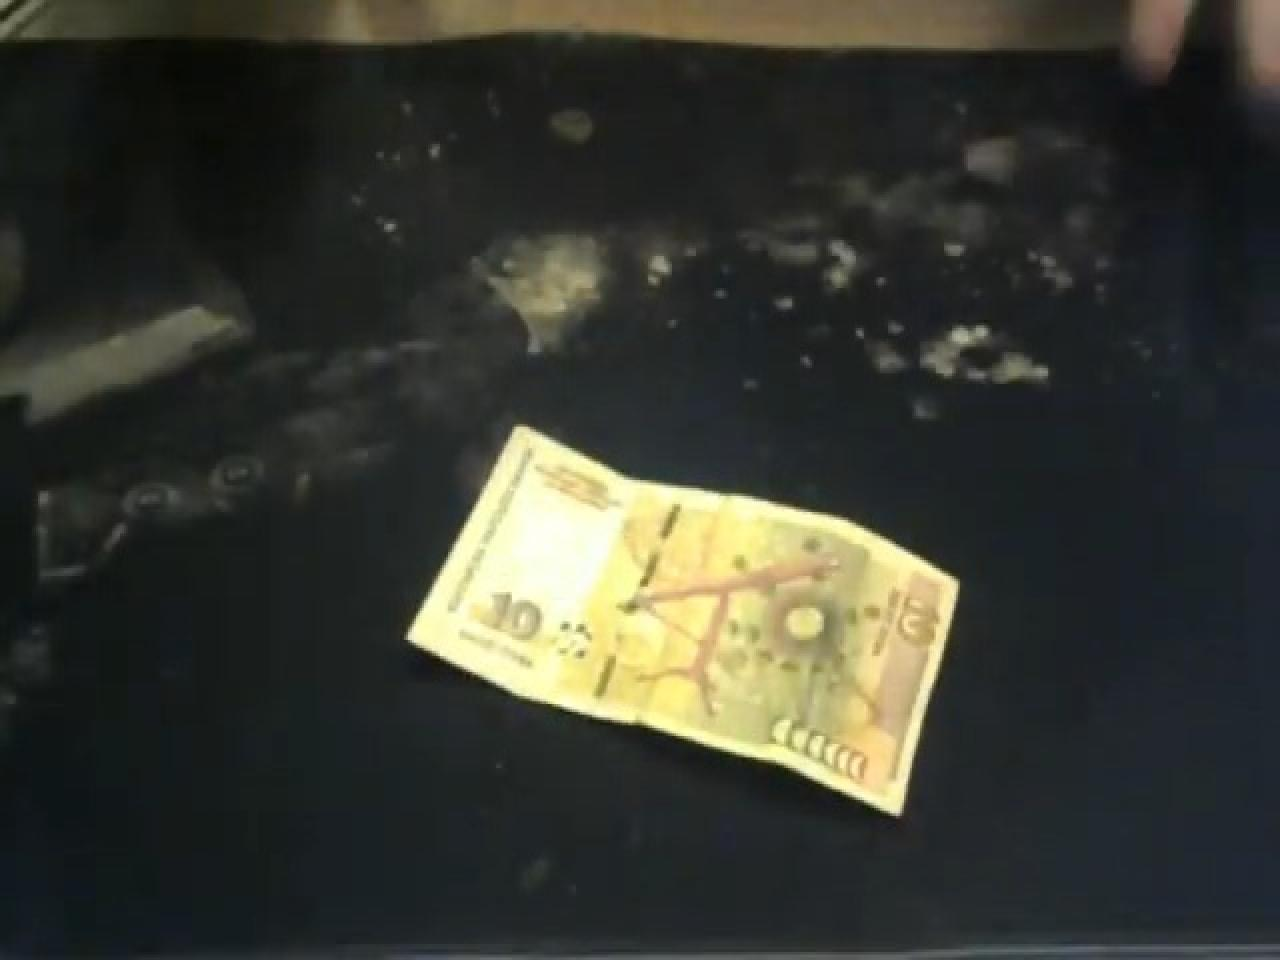10leva: (406, 430, 958, 819)
